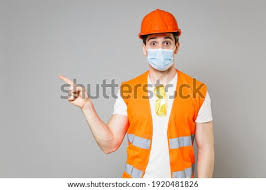Helmet: (131, 7, 186, 37)
Jacket: (117, 76, 206, 177)
Mask: (142, 48, 179, 74)
